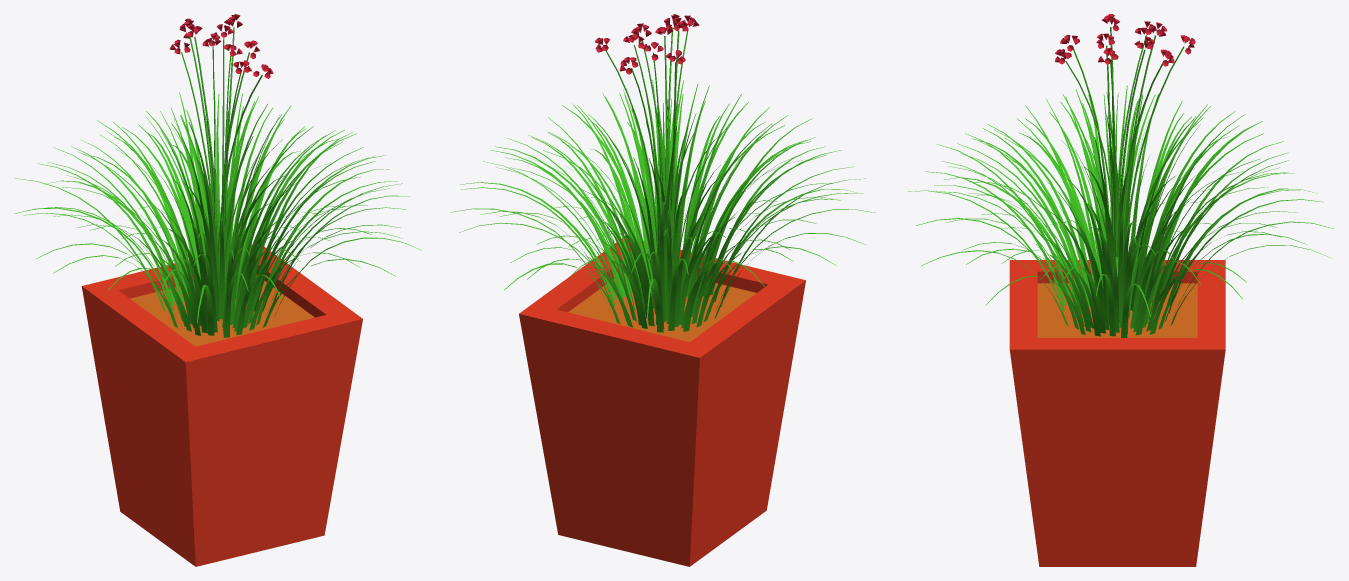
Rendered from Plant.fbx.
3 renders of one model, left to right at view 1: azimuth 30°, elevation 25°; view 2: azimuth 150°, elevation 25°; view 3: azimuth 270°, elevation 25°, orthographic. The views are drawn at different scales.
Parts seen in each view (by area): view 1: Box002; view 2: Box002; view 3: Box002.
Boxes of the visible parts, x1,y1,x2,y2 form: Box002: [14, 14, 421, 566]; Box002: [451, 14, 875, 566]; Box002: [908, 14, 1333, 566].
Bounding box in the file's own units: 59.59 × 76.51 × 58.05.
